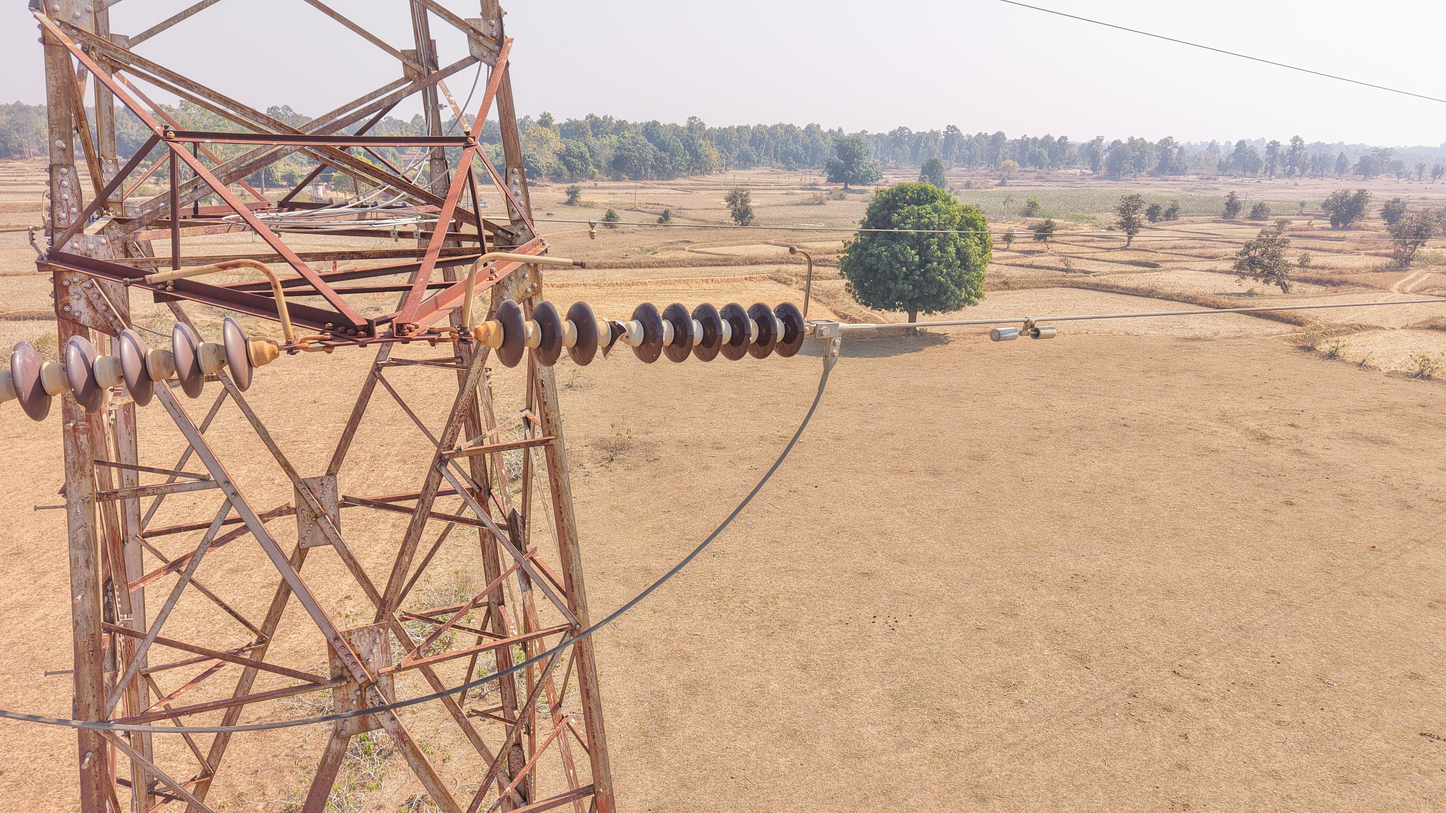broken_insulator: (602, 302, 630, 362)
